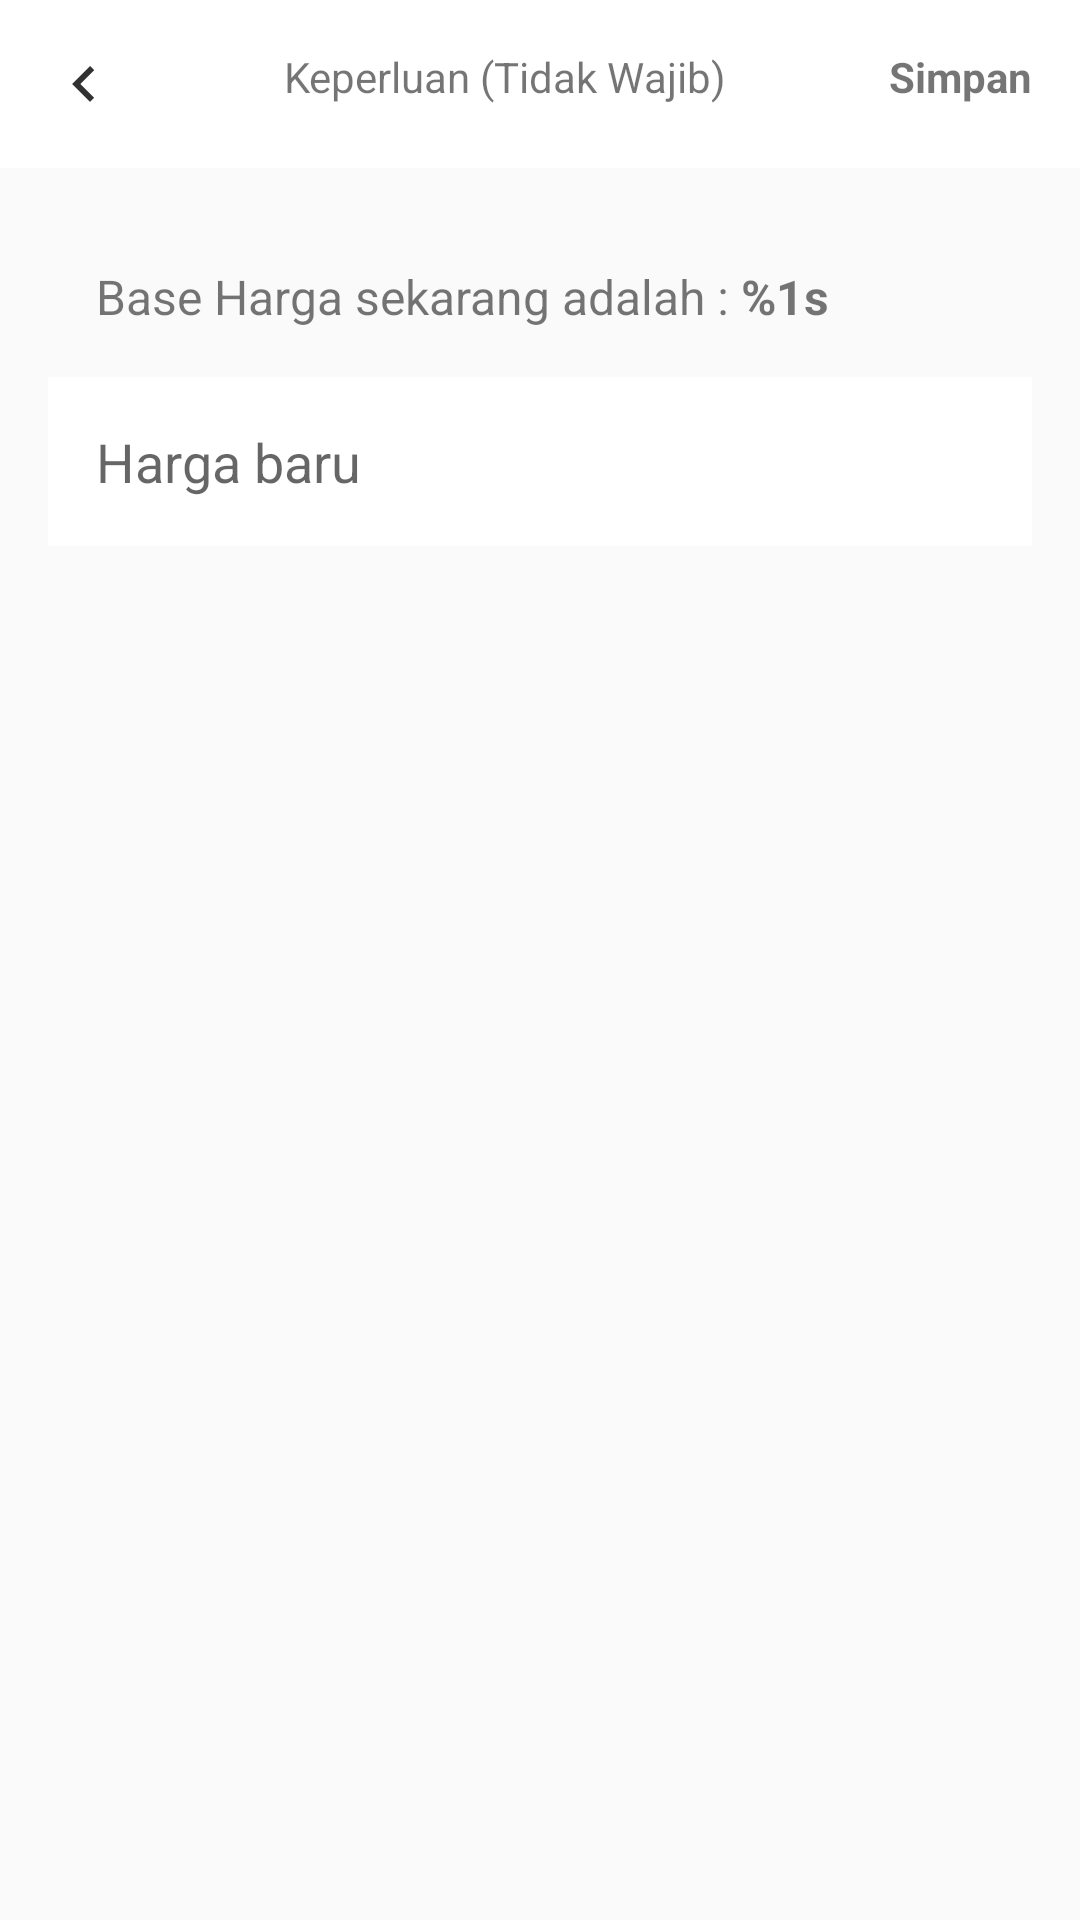

Where to tap for icons on this 1080×1920 app screen, as (x,y):
back arrow: (83,84)
